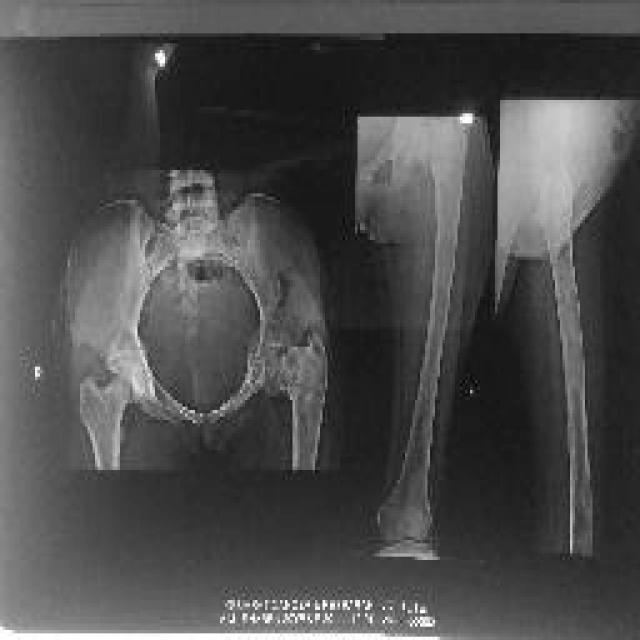bone-cancer: (282, 337, 328, 471)
